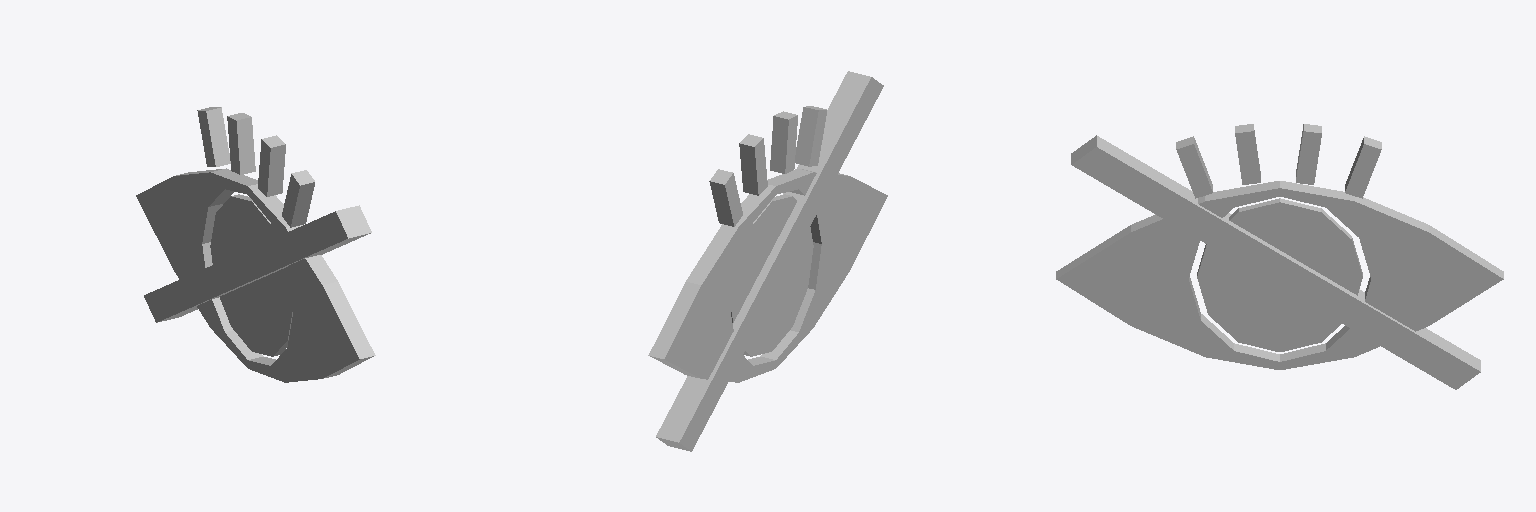
The model's file is eye.obj.
The picture shows the model from 3 angles: view 1: azimuth 30°, elevation 25°; view 2: azimuth 150°, elevation 25°; view 3: azimuth 270°, elevation 25°; orthographic projection.
Parts seen in each view (by area): view 1: eye_Circle; view 2: eye_Circle; view 3: eye_Circle.
Part boxes in pixels (x1,y1,x2,y2): eye_Circle: (136, 107, 375, 382); eye_Circle: (648, 71, 887, 451); eye_Circle: (1056, 124, 1503, 389).
Size of the model in its own units: 0.0684 by 0.7083 by 1.12.